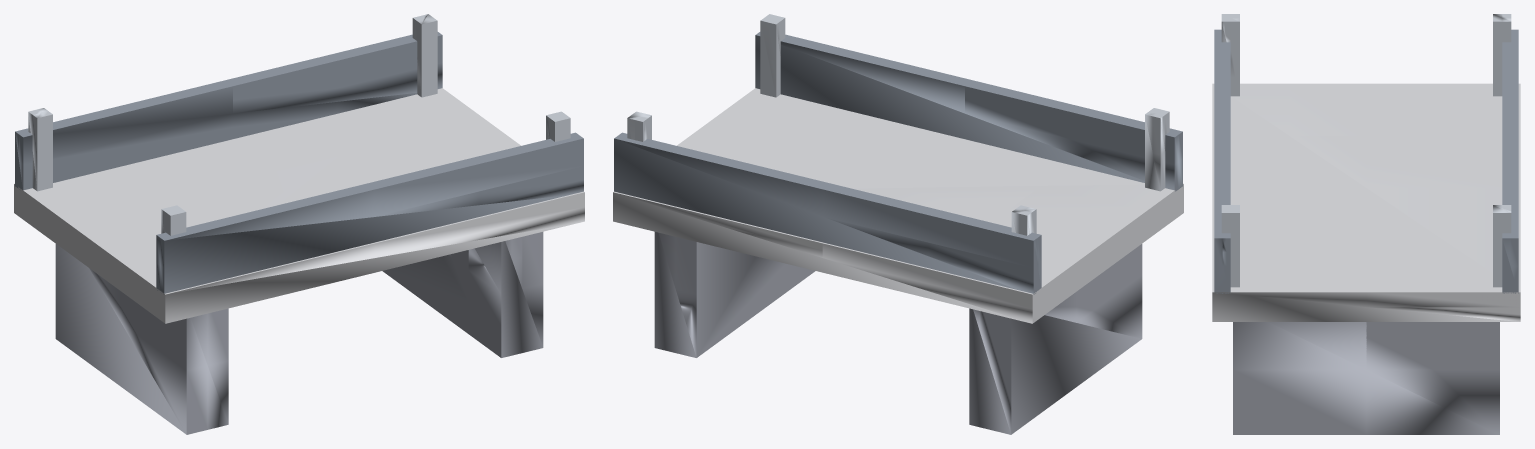
Rendered from bridge.glb.
3 renders of one model, left to right at view 1: azimuth 30°, elevation 25°; view 2: azimuth 150°, elevation 25°; view 3: azimuth 270°, elevation 25°, orthographic.
Visible parts, largest first — view 1: MetroBridge; view 2: MetroBridge; view 3: MetroBridge.
Part boxes in pixels (left/top/right/bottom): MetroBridge: left=14, top=14, right=584, bottom=434; MetroBridge: left=613, top=14, right=1183, bottom=434; MetroBridge: left=1212, top=14, right=1520, bottom=434.
Bounding box in the file's own units: 2.4 × 1.25 × 1.5.
